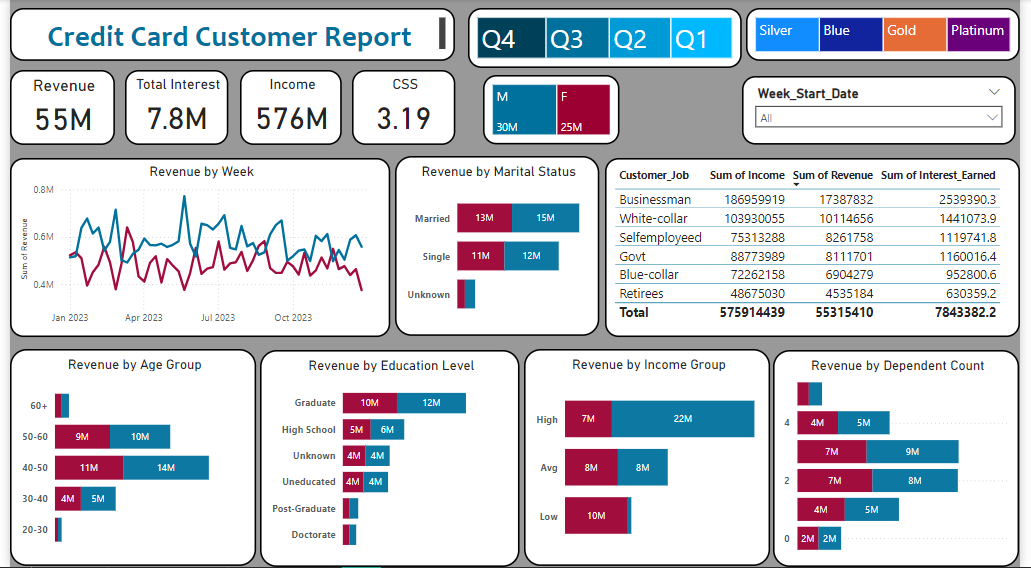

The page's visual inventory and layout, read from the dashboard file:
{"tool":"powerbi","page":{"name":"CC_Customer","canvas":[1280,720],"ordinal":2},"visuals":[{"type":"textbox","box":[0,11,564.3,67.4],"z":0},{"type":"barChart","title":" Revenue by Age Group","fields":{"Y":["Sum(cc_detail.Revenue)"],"Category":["cust_detail.AgeGroup"],"Series":["cust_detail.Gender"]},"box":[0,443.2,312,275],"z":1000},{"type":"tableEx","fields":{"Values":["cust_detail.Customer_Job","Sum(cust_detail.Income)","Sum(cc_detail.Revenue)","Sum(cc_detail.Interest_Earned)"]},"box":[754.2,200.9,525.8,227.1],"z":2000},{"type":"card","title":"Revenue","fields":{"Values":["Sum(cc_detail.Revenue)"]},"box":[0,90,133.2,95],"z":3000},{"type":"card","title":"Total Interest","fields":{"Values":["Sum(cc_detail.Interest_Earned)"]},"box":[145.9,90,130.8,95],"z":4000},{"type":"card","title":"Income","fields":{"Values":["Sum(cust_detail.Income)"]},"box":[291.8,90,129.4,95],"z":5000},{"type":"card","title":"CSS","fields":{"Values":["Avg(cust_detail.Cust_Satisfaction_Score)"]},"box":[433.5,90,130.8,95],"z":6000},{"type":"slicer","fields":{"Values":["cc_detail.Week_Start_Date"]},"box":[927.7,97.7,346.8,86.7],"z":7000},{"type":"treemap","fields":{"Group":["cc_detail.Qtr"],"Values":["Avg(cc_detail.Client_Num)"]},"box":[580.8,11,346.8,75.7],"z":8000},{"type":"treemap","fields":{"Group":["cc_detail.Card_Category"],"Values":["Avg(cc_detail.Client_Num)"]},"box":[933.2,11,346.8,67.4],"z":9000},{"type":"treemap","fields":{"Values":["Sum(cc_detail.Revenue)"],"Group":["cust_detail.Gender"]},"box":[600.1,96.3,173.4,88.1],"z":10000},{"type":"lineChart","title":" Revenue by Week","fields":{"Y":["Sum(cc_detail.Revenue)"],"Category":["cc_detail.Week_Start_Date.Variation.Date Hierarchy.Year","cc_detail.Week_Start_Date.Variation.Date Hierarchy.Month","cc_detail.Week_Start_Date.Variation.Date Hierarchy.Day"],"Series":["cust_detail.Gender"]},"box":[0,200.9,481.7,227],"z":11000},{"type":"barChart","title":"Revenue by Income Group","fields":{"Y":["Sum(cc_detail.Revenue)"],"Category":["cust_detail.IncomeGroup"],"Series":["cust_detail.Gender"]},"box":[651,444,312.4,275.3],"z":12000},{"type":"barChart","title":"Revenue by Education Level","fields":{"Y":["Sum(cc_detail.Revenue)"],"Category":["cust_detail.Education_Level"],"Series":["cust_detail.Gender"]},"box":[316.6,444.6,328.9,275.3],"z":13000},{"type":"barChart","title":" Revenue by Dependent Count","fields":{"Y":["Sum(cc_detail.Revenue)"],"Category":["cust_detail.Dependent_Count"],"Series":["cust_detail.Gender"]},"box":[967.6,444.6,312.4,275.3],"z":14000},{"type":"barChart","title":"Revenue by Marital Status","fields":{"Y":["Sum(cc_detail.Revenue)"],"Category":["cust_detail.Marital_Status"],"Series":["cust_detail.Gender"]},"box":[488.6,199.6,258.8,228.5],"z":15001}]}

Visuals, with their boxes in screenshot pixels (x1, y1, x2, y2), scaled from the page's 1280x720 canvas onto the 1031x568 screenshot:
textbox: BBox(0, 9, 455, 62)
" Revenue by Age Group" barChart: BBox(0, 350, 251, 567)
tableEx - cust_detail.Customer_Job x Sum(cust_detail.Income): BBox(607, 158, 1030, 338)
"Revenue" card: BBox(0, 71, 107, 146)
"Total Interest" card: BBox(118, 71, 223, 146)
"Income" card: BBox(235, 71, 339, 146)
"CSS" card: BBox(349, 71, 455, 146)
slicer - cc_detail.Week_Start_Date: BBox(747, 77, 1027, 145)
treemap - cc_detail.Qtr x Avg(cc_detail.Client_Num): BBox(468, 9, 747, 68)
treemap - cc_detail.Card_Category x Avg(cc_detail.Client_Num): BBox(752, 9, 1030, 62)
treemap - Sum(cc_detail.Revenue) x cust_detail.Gender: BBox(483, 76, 623, 145)
" Revenue by Week" lineChart: BBox(0, 158, 388, 338)
"Revenue by Income Group" barChart: BBox(524, 350, 776, 567)
"Revenue by Education Level" barChart: BBox(255, 351, 520, 567)
" Revenue by Dependent Count" barChart: BBox(779, 351, 1030, 567)
"Revenue by Marital Status" barChart: BBox(394, 157, 602, 338)
